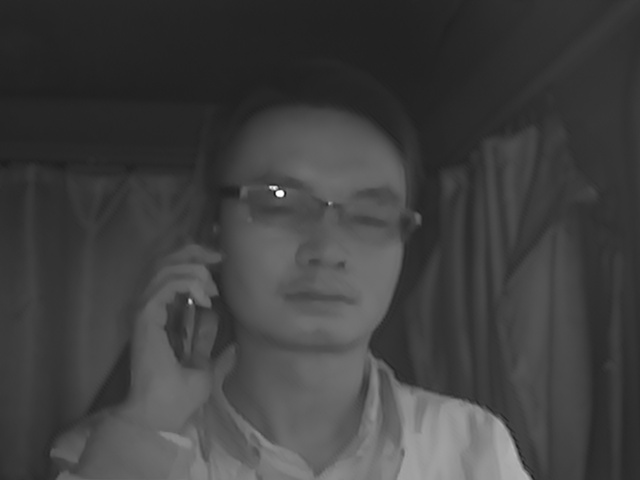hand: (125, 239, 228, 408)
